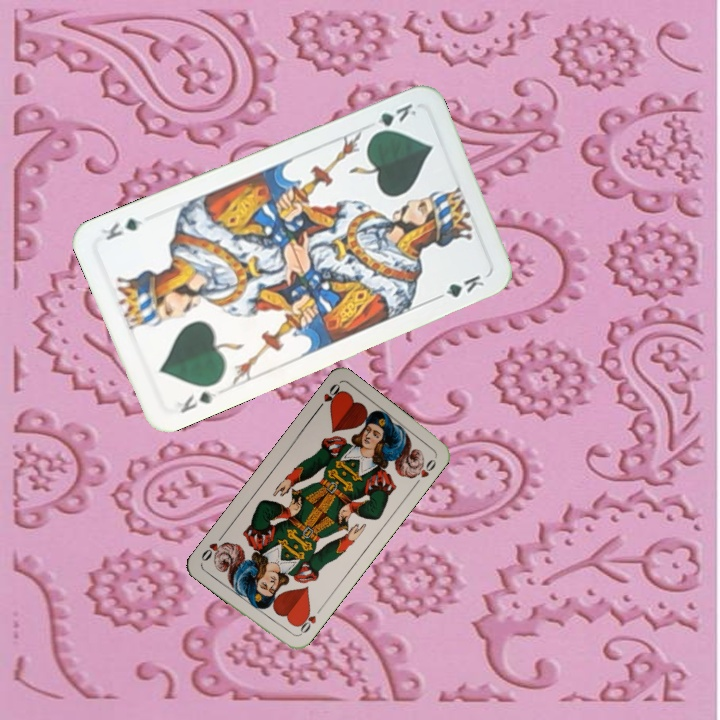GK: (367, 99, 419, 138), (176, 387, 219, 416)
HO: (312, 379, 345, 414), (293, 604, 324, 639)
